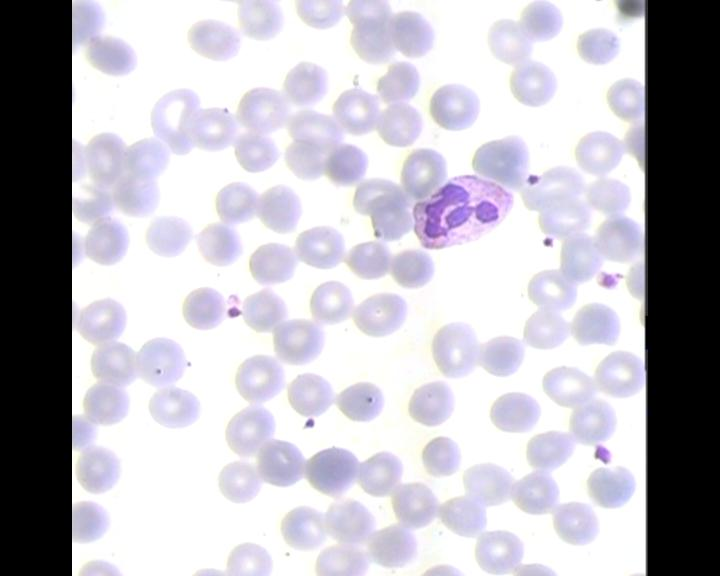neut: (411, 171, 516, 255)
